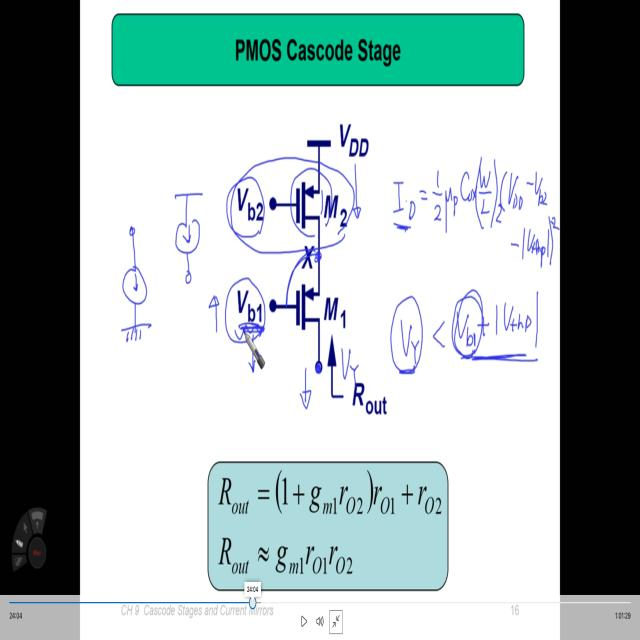panseo: (377, 153, 560, 382), (105, 172, 221, 367)
